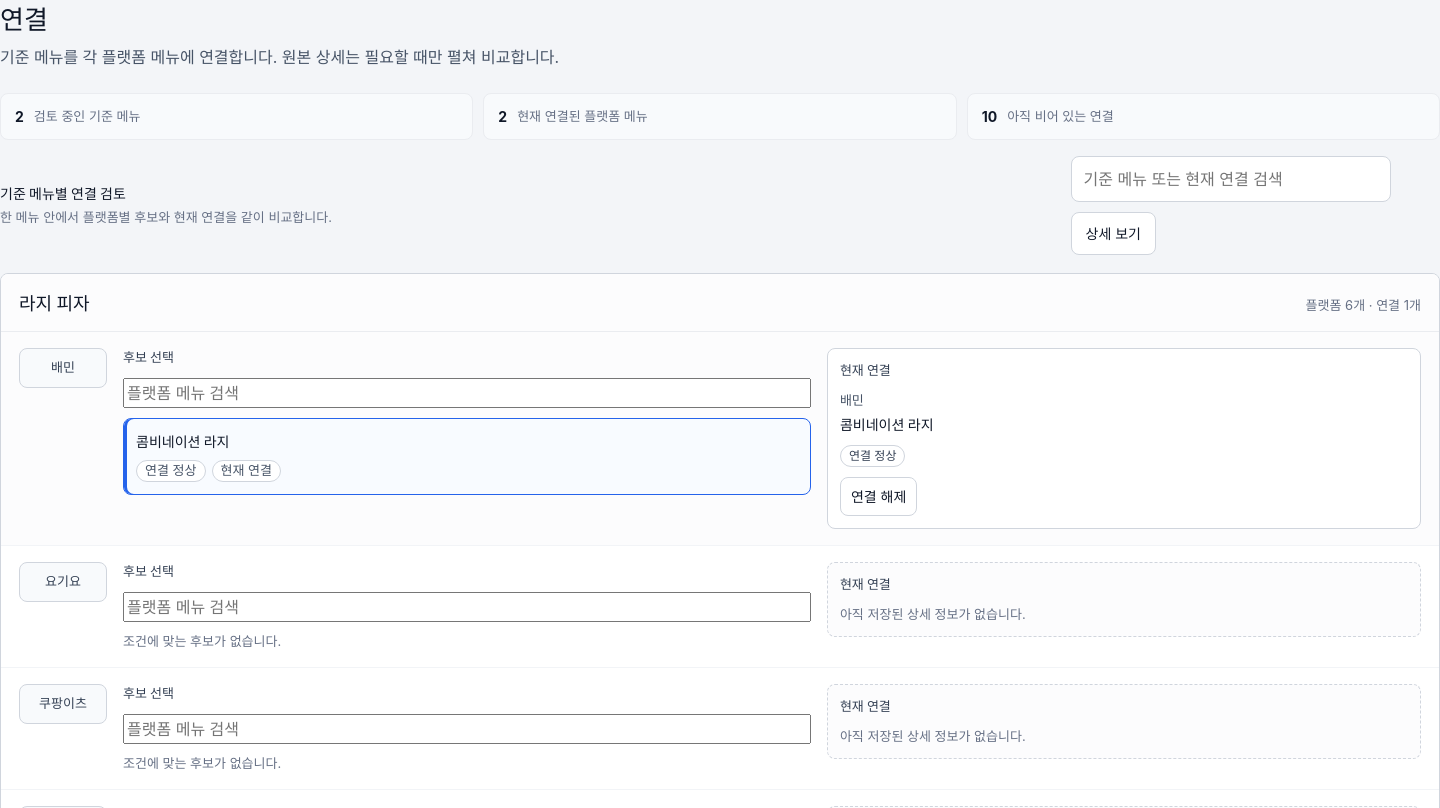
Test case: MappingPage › filters mapping groups by the page-level search box
Type "라지" into the search field with placeholder "기준 메뉴 또는 현재 연결 검색" at (1230, 179), box x1=1070 y1=156 x2=1390 y2=202
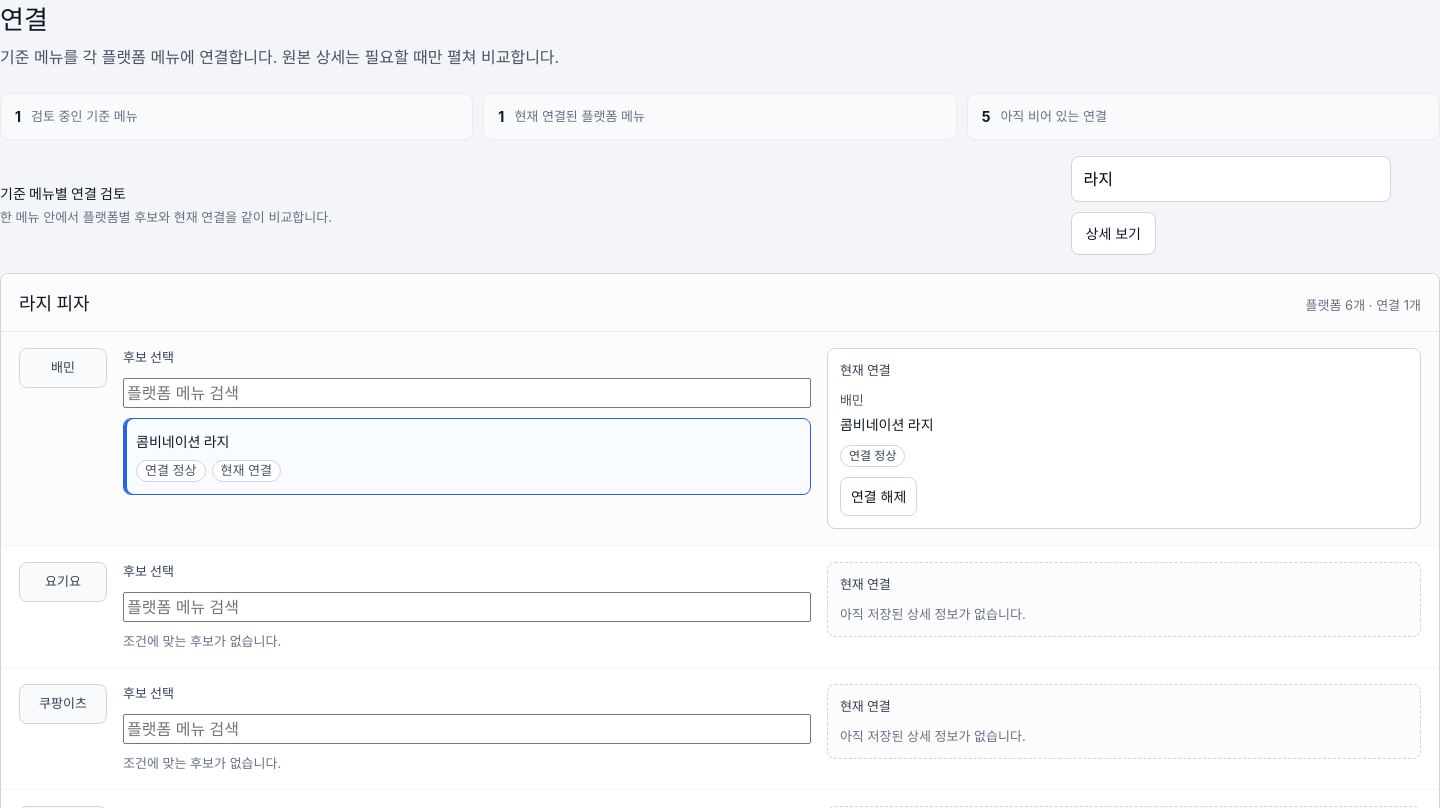
Expected: the heading "라지 피자" is shown, x1=19 y1=290 x2=90 y2=317
Replace the text in the search field with placeholder "기준 메뉴 또는 현재 연결 검색" with "없는 검색어" at (1230, 179), box x1=1070 y1=156 x2=1390 y2=202
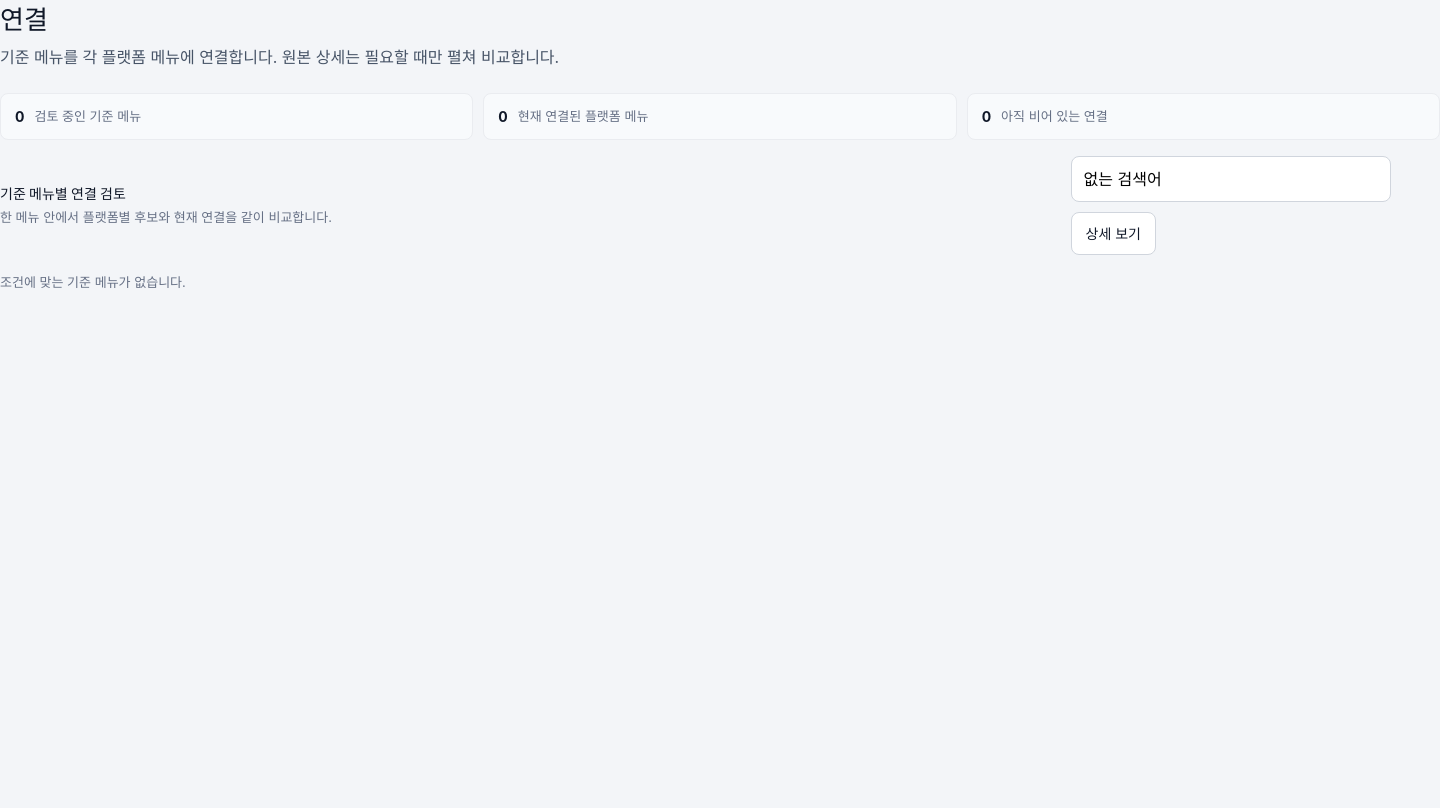
Expected: the text "조건에 맞는 기준 메뉴가 없습니다." is shown, x1=0 y1=274 x2=186 y2=290
